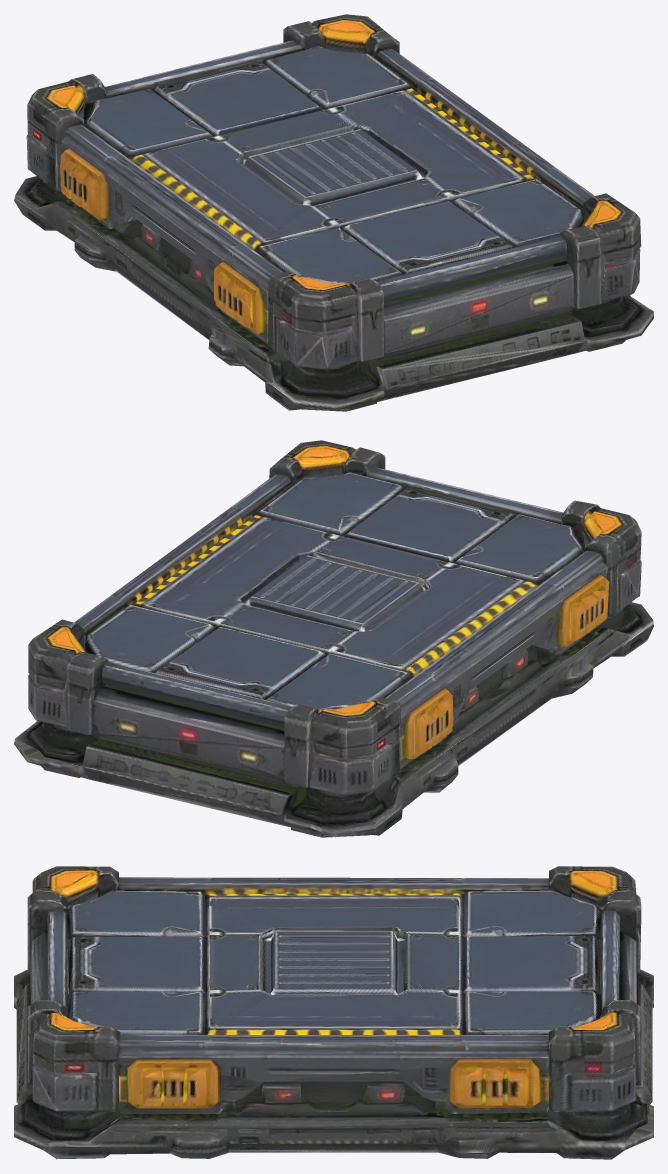
Rendered from big_panel.glb.
The picture shows the model from 3 angles, top to bottom: view 1: azimuth 30°, elevation 25°; view 2: azimuth 150°, elevation 25°; view 3: azimuth 270°, elevation 25°; orthographic projection. The views are drawn at different scales.
Parts seen in each view (by area): view 1: mesh_node; view 2: mesh_node; view 3: mesh_node.
Part boxes in pixels (left/top/right/bottom): mesh_node: left=14, top=14, right=653, bottom=411; mesh_node: left=14, top=440, right=653, bottom=837; mesh_node: left=14, top=866, right=653, bottom=1159.
Size of the model in its own units: 0.6953 by 0.2085 by 1.
Materials: 1 (1 with a texture image).
